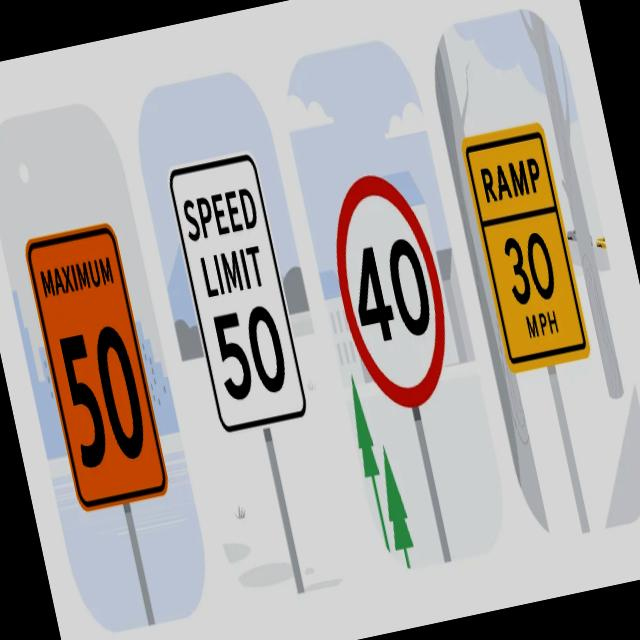Speed Limit Signs: (163, 148, 311, 438)
